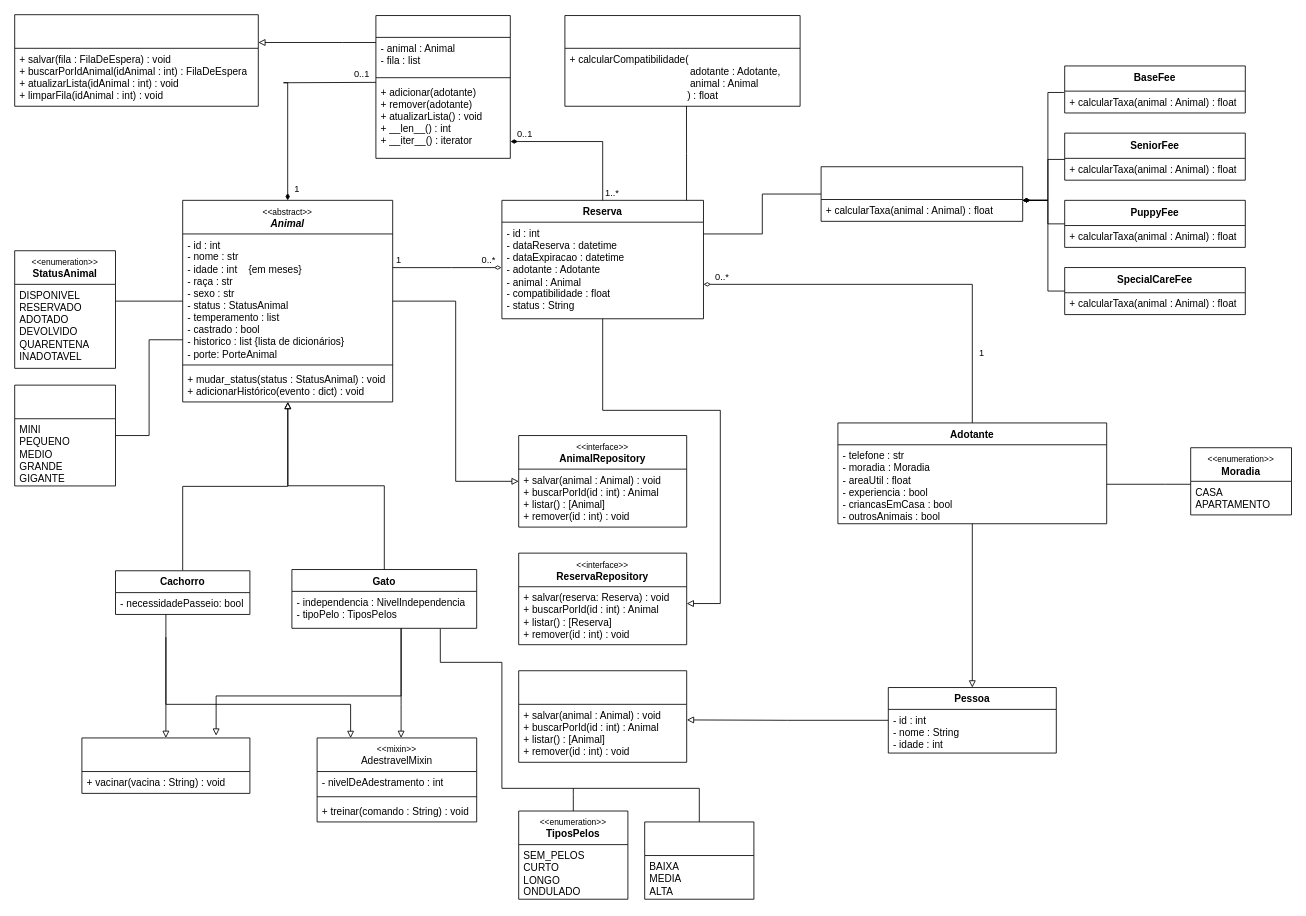
Some shapes in this 1306 by 916 pixel diagram are drawn without their labels. Each missing label, with the box of its shape:
<<enumeration>> NivelIndependencia: (644, 821, 754, 899)
<<enumeration>> PorteAnimal: (14, 384, 116, 486)
<<interface>> CompatibilidadeStrategy: (564, 15, 800, 106)
<<interface>> FilaDeEsperaRepository: (14, 14, 258, 106)
<<interface>> PessoaRepository: (518, 670, 687, 762)
<<mixin>> VacinavelMixin: (81, 737, 250, 793)
FilaDeEspera: (375, 15, 510, 158)
TaxaAdocaoStrategy: (820, 166, 1023, 221)
